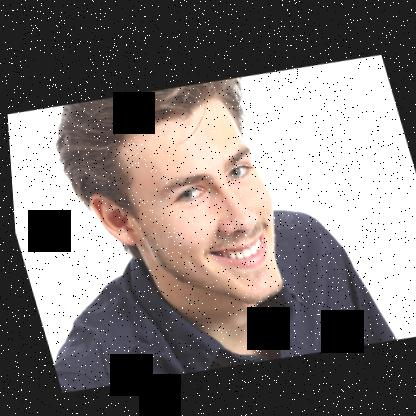Male: (66, 81, 300, 333)
